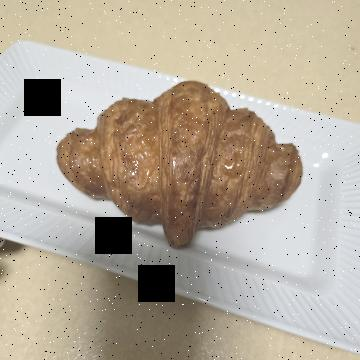croissant: (58, 46, 250, 312)
